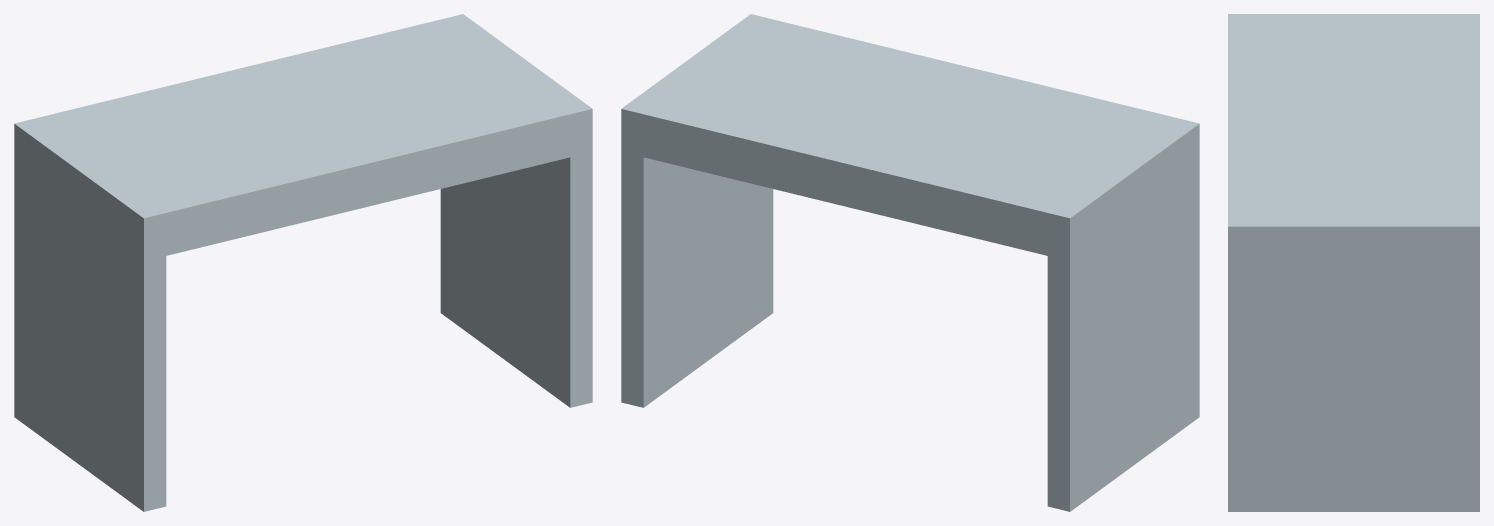
Rendered from assembly.glb.
3 renders of one model, left to right at view 1: azimuth 30°, elevation 25°; view 2: azimuth 150°, elevation 25°; view 3: azimuth 270°, elevation 25°, orthographic. The views are drawn at different scales.
Visible parts, largest first — view 1: tablero_superior, lateral_izquierdo, lateral_derecho, faldon_frontal; view 2: tablero_superior, lateral_izquierdo, lateral_derecho, faldon_trasero; view 3: lateral_derecho, tablero_superior.
Boxes of the visible parts, x1,y1,x2,y2 form: tablero_superior: (14,14,592,229); lateral_izquierdo: (14,135,166,511); lateral_derecho: (440,120,592,407); faldon_frontal: (166,126,570,255); tablero_superior: (621,14,1199,229); lateral_izquierdo: (1047,135,1199,511); lateral_derecho: (621,120,773,407); faldon_trasero: (643,126,1047,255); lateral_derecho: (1228,238,1479,511); tablero_superior: (1228,14,1479,238).
Bounding box in the file's own units: 1.2 × 0.75 × 0.6.
